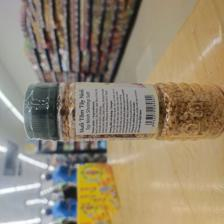TayNinh_green: (23, 81, 224, 141)
